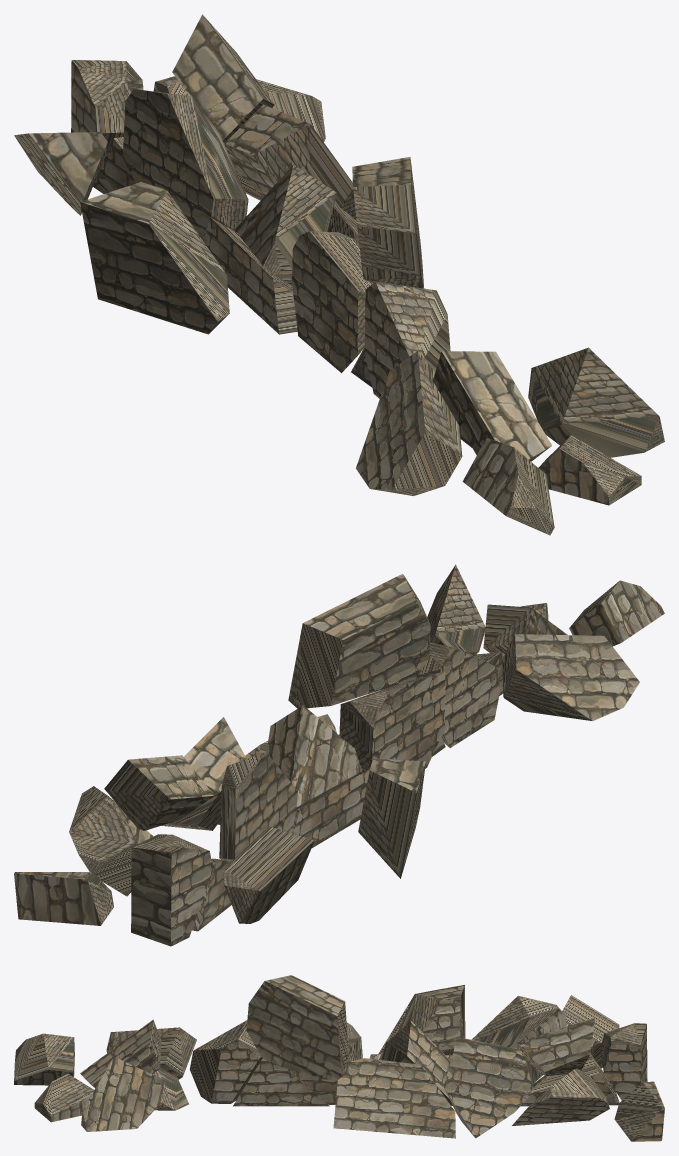
File: BreakWallLarge_000012.obj
The picture shows the model from 3 angles, top to bottom: view 1: azimuth 30°, elevation 25°; view 2: azimuth 150°, elevation 25°; view 3: azimuth 270°, elevation 25°; orthographic projection. The views are drawn at different scales.
Parts seen in each view (by area): view 1: Cube.057_cell.017_Cube.057_cell.016, Cube.057_cell.014_Cube.057_cell.013, Cube.057_cell.021_Cube.057_cell.020, Cube.057_cell.007_Cube.057_cell.006, Cube.057_cell.013_Cube.057_cell.012, Cube.057_cell.011_Cube.057_cell.010, Cube.057_cell.018_Cube.057_cell.017, Cube.057_cell.020_Cube.057_cell.019, Cube.057_cell.010_Cube.057_cell.009, Cube.057_cell.016_Cube.057_cell.015, Cube.057_cell_Cube.057_cell.022, Cube.057_cell.015_Cube.057_cell.014 (+6 smaller); view 2: Cube.057_cell.018_Cube.057_cell.017, Cube.057_cell.021_Cube.057_cell.020, Cube.057_cell.013_Cube.057_cell.012, Cube.057_cell.003_Cube.057_cell.002, Cube.057_cell.014_Cube.057_cell.013, Cube.057_cell_Cube.057_cell.022, Cube.057_cell.017_Cube.057_cell.016, Cube.057_cell.016_Cube.057_cell.015, Cube.057_cell.001_Cube.057_cell.000, Cube.057_cell.012_Cube.057_cell.011, Cube.057_cell.010_Cube.057_cell.009, Cube.057_cell.019_Cube.057_cell.018 (+6 smaller); view 3: Cube.057_cell.018_Cube.057_cell.017, Cube.057_cell.004_Cube.057_cell.003, Cube.057_cell.020_Cube.057_cell.019, Cube.057_cell.007_Cube.057_cell.006, Cube.057_cell.010_Cube.057_cell.009, Cube.057_cell.017_Cube.057_cell.016, Cube.057_cell.012_Cube.057_cell.011, Cube.057_cell.014_Cube.057_cell.013, Cube.057_cell.016_Cube.057_cell.015, Cube.057_cell.003_Cube.057_cell.002, Cube.057_cell.015_Cube.057_cell.014, Cube.057_cell.002_Cube.057_cell.001 (+9 smaller).
Part boxes in pixels (<box>): Cube.057_cell.017_Cube.057_cell.016: <box>80,182,229,334</box>; Cube.057_cell.014_Cube.057_cell.013: <box>122,89,248,240</box>; Cube.057_cell.021_Cube.057_cell.020: <box>356,351,462,495</box>; Cube.057_cell.007_Cube.057_cell.006: <box>528,347,664,457</box>; Cube.057_cell.013_Cube.057_cell.012: <box>291,231,372,372</box>; Cube.057_cell.011_Cube.057_cell.010: <box>433,351,551,461</box>; Cube.057_cell.018_Cube.057_cell.017: <box>352,157,424,288</box>; Cube.057_cell.020_Cube.057_cell.019: <box>224,104,356,220</box>; Cube.057_cell.010_Cube.057_cell.009: <box>365,281,450,398</box>; Cube.057_cell.016_Cube.057_cell.015: <box>172,14,274,142</box>; Cube.057_cell_Cube.057_cell.022: <box>234,164,336,285</box>; Cube.057_cell.015_Cube.057_cell.014: <box>462,437,554,535</box>; Cube.057_cell.018_Cube.057_cell.017: <box>288,574,430,708</box>; Cube.057_cell.021_Cube.057_cell.020: <box>502,634,639,720</box>; Cube.057_cell.013_Cube.057_cell.012: <box>339,671,445,778</box>; Cube.057_cell.003_Cube.057_cell.002: <box>131,834,213,946</box>; Cube.057_cell.014_Cube.057_cell.013: <box>219,752,297,862</box>; Cube.057_cell_Cube.057_cell.022: <box>266,705,362,809</box>; Cube.057_cell.017_Cube.057_cell.016: <box>358,758,425,878</box>; Cube.057_cell.016_Cube.057_cell.015: <box>104,755,214,830</box>; Cube.057_cell.001_Cube.057_cell.000: <box>223,826,314,923</box>; Cube.057_cell.012_Cube.057_cell.011: <box>69,786,153,896</box>; Cube.057_cell.010_Cube.057_cell.009: <box>415,642,499,747</box>; Cube.057_cell.019_Cube.057_cell.018: <box>14,872,113,925</box>; Cube.057_cell.018_Cube.057_cell.017: <box>246,975,348,1081</box>; Cube.057_cell.004_Cube.057_cell.003: <box>333,1058,455,1138</box>; Cube.057_cell.020_Cube.057_cell.019: <box>443,1037,533,1138</box>; Cube.057_cell.007_Cube.057_cell.006: <box>81,1056,165,1131</box>; Cube.057_cell.010_Cube.057_cell.009: <box>189,1020,263,1103</box>; Cube.057_cell.017_Cube.057_cell.016: <box>378,984,465,1055</box>; Cube.057_cell.012_Cube.057_cell.011: <box>512,1068,609,1125</box>; Cube.057_cell.014_Cube.057_cell.013: <box>472,995,566,1084</box>; Cube.057_cell.016_Cube.057_cell.015: <box>517,1017,594,1075</box>; Cube.057_cell.003_Cube.057_cell.002: <box>600,1023,647,1100</box>; Cube.057_cell.015_Cube.057_cell.014: <box>14,1033,74,1085</box>; Cube.057_cell.002_Cube.057_cell.001: <box>233,1058,329,1106</box>.
Size of the model in its own units: 24.43 by 14.49 by 69.92.
Materials: 2 (2 with a texture image).
